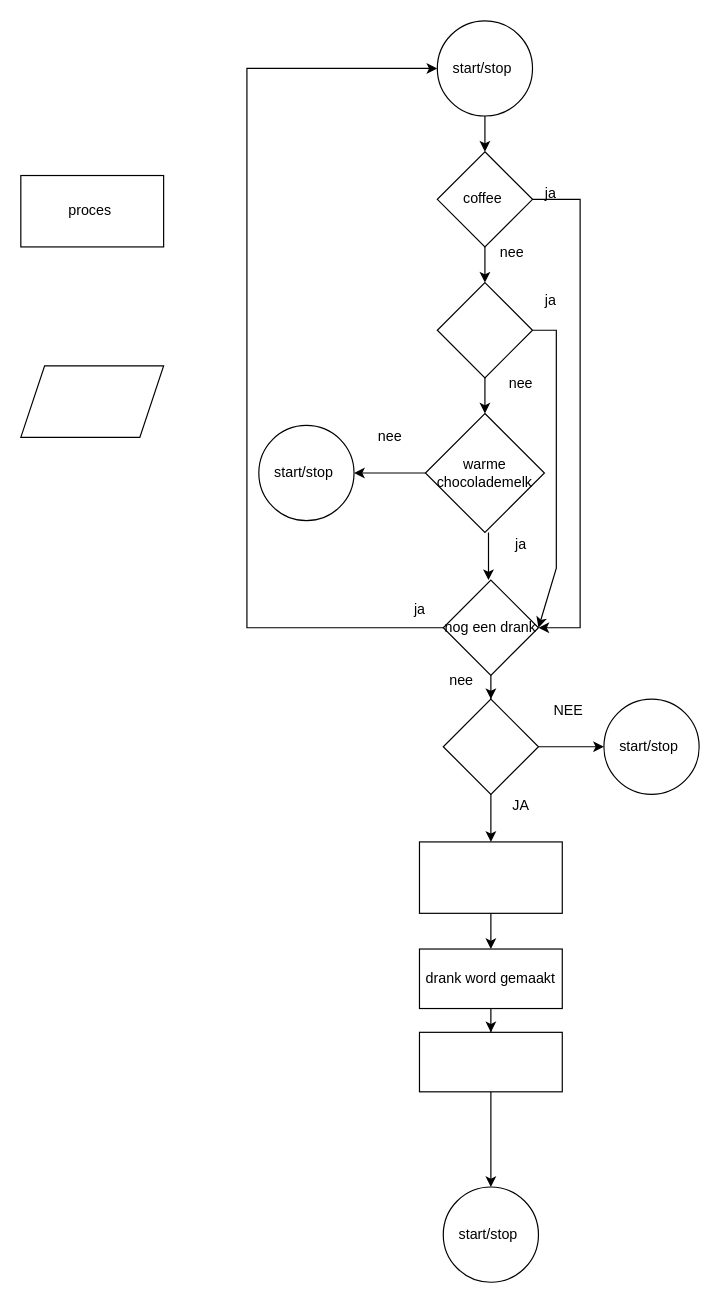
Some shapes in this 720 by 1303 pixel diagram are drawn without their labels. Each missing label, with the box of its shape:
BETAAL: (418, 841, 562, 913)
betalen: (442, 698, 538, 794)
drank word gegeven: (418, 1031, 562, 1092)
thee: (436, 281, 533, 378)
uitvoer: (20, 365, 164, 437)
